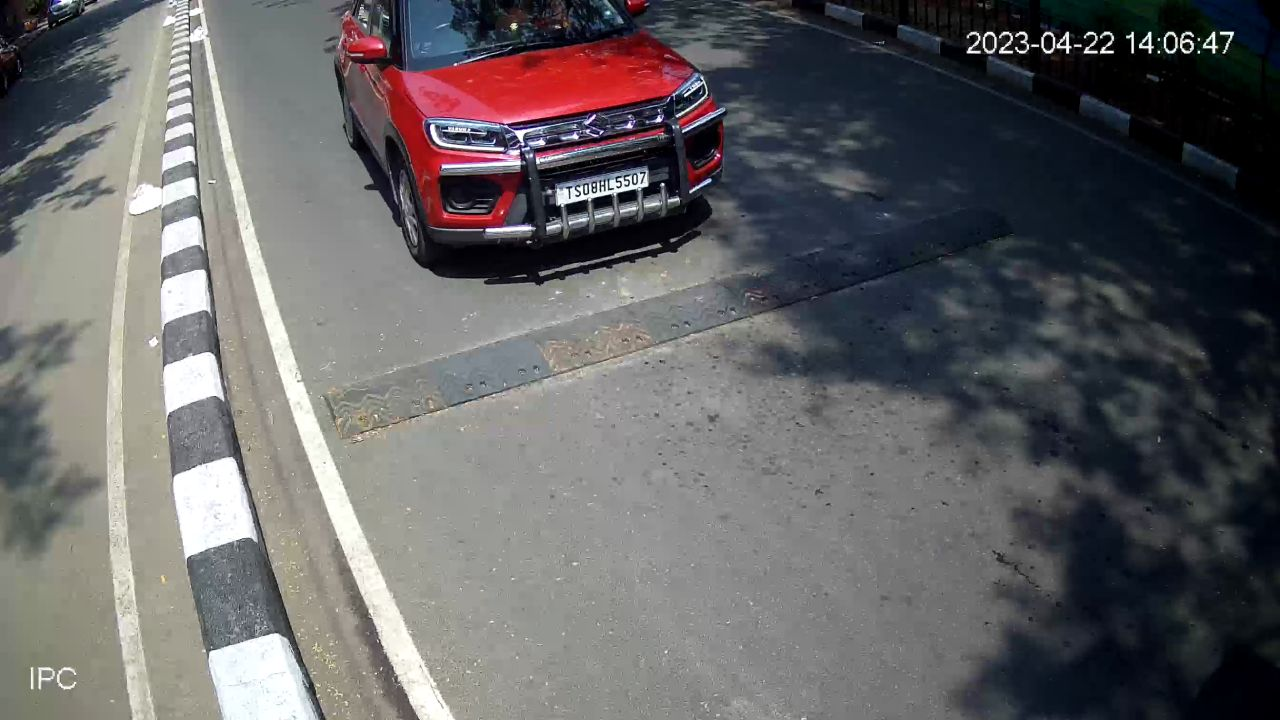license_plate: (553, 160, 654, 212)
